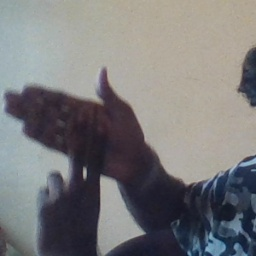N: (2, 63, 133, 217)
